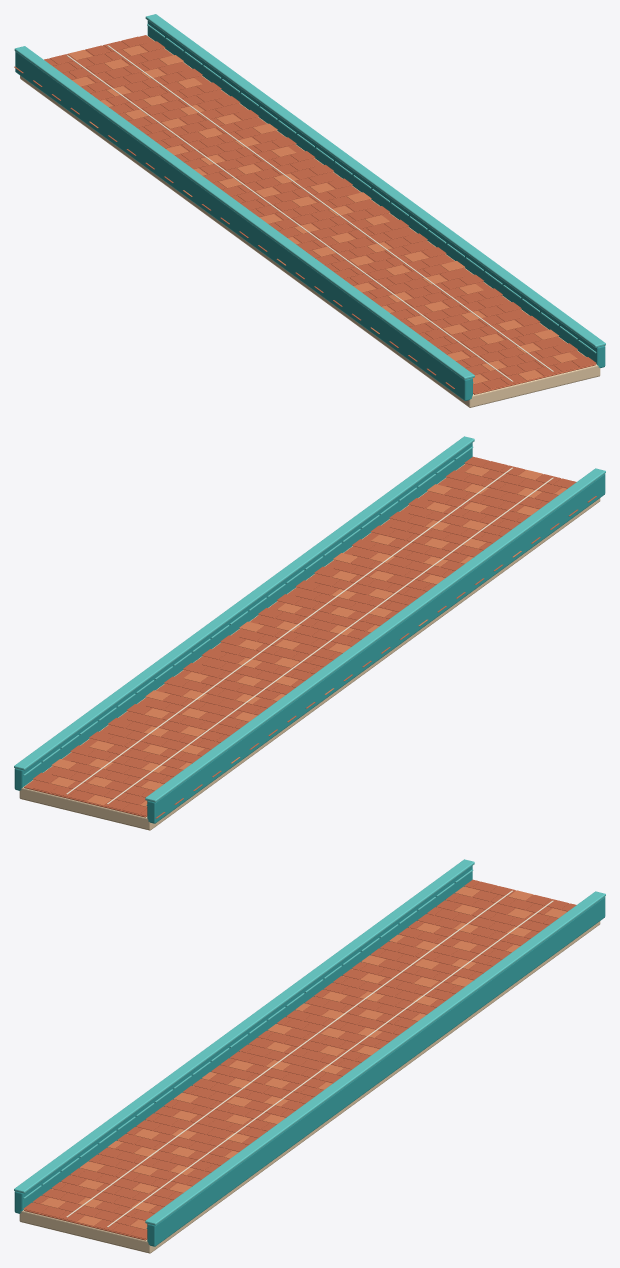
The model's file is Premium_01_Brick_Track.fbx.
3 renders of one model, top to bottom at view 1: azimuth 30°, elevation 25°; view 2: azimuth 150°, elevation 25°; view 3: azimuth 330°, elevation 25°, orthographic.
Parts seen in each view (by area): view 1: Track_Red_Surface, Parapet_Base, Parapet_Base.001, Parapet_Cap, Parapet_Cap.001, Track_Structure, Lane_Separator, Lane_Separator.001; view 2: Track_Red_Surface, Parapet_Base, Parapet_Base.001, Parapet_Cap, Parapet_Cap.001, Track_Structure, Lane_Separator, Lane_Separator.001; view 3: Parapet_Base.001, Track_Red_Surface, Parapet_Base, Parapet_Cap.001, Parapet_Cap, Track_Structure, Lane_Separator.001, Lane_Separator.
Part boxes in pixels (x1,y1,x2,y2): Track_Red_Surface: (49, 35, 595, 394); Parapet_Base: (15, 51, 472, 400); Parapet_Base.001: (147, 20, 605, 367); Parapet_Cap: (14, 46, 474, 379); Parapet_Cap.001: (145, 14, 605, 347); Track_Structure: (20, 36, 600, 407); Lane_Separator: (66, 55, 513, 381); Lane_Separator.001: (107, 45, 553, 371); Track_Red_Surface: (24, 461, 567, 817); Parapet_Base: (147, 474, 605, 823); Parapet_Base.001: (14, 443, 472, 790); Parapet_Cap: (145, 468, 605, 802); Parapet_Cap.001: (14, 436, 474, 770); Track_Structure: (19, 463, 600, 830); Lane_Separator: (107, 477, 553, 804); Lane_Separator.001: (66, 467, 512, 794); Parapet_Base.001: (147, 897, 605, 1246); Track_Red_Surface: (24, 881, 569, 1240); Parapet_Base: (14, 866, 472, 1213); Parapet_Cap.001: (145, 891, 605, 1225); Parapet_Cap: (14, 859, 474, 1193); Track_Structure: (19, 886, 600, 1253); Lane_Separator.001: (107, 900, 553, 1227); Lane_Separator: (66, 890, 512, 1217).
Size of the model in its own units: 17.57 by 3.8 by 96.
